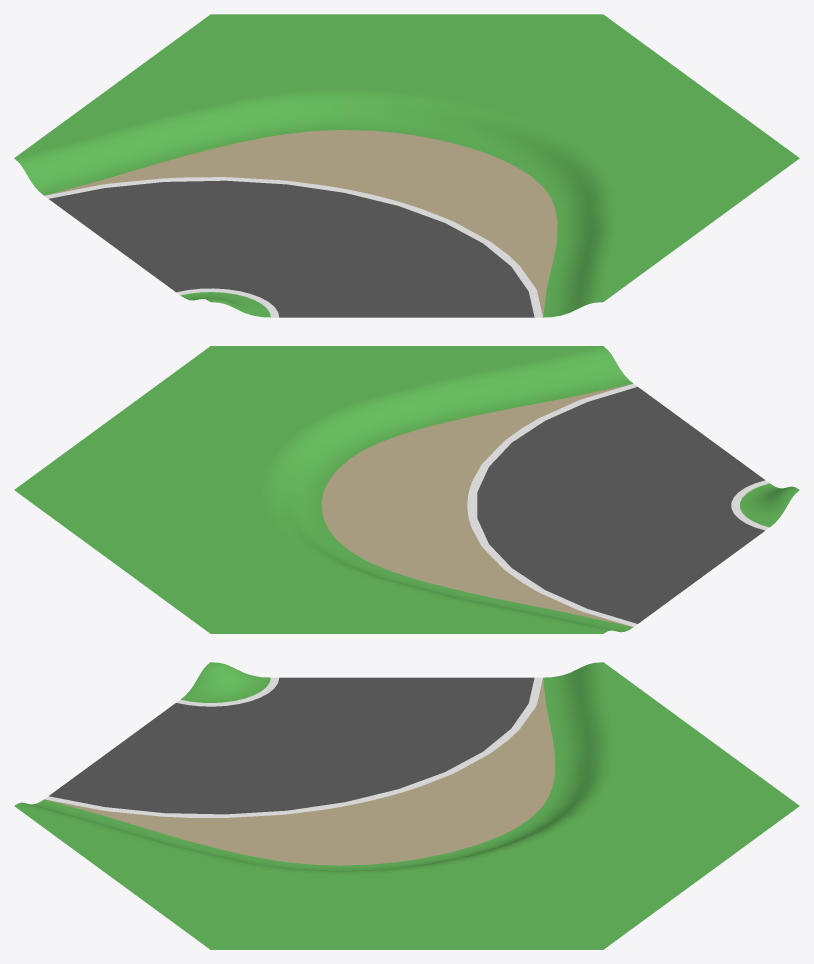
Rendered from Track_Flat_Curve_Sharp_Runoff.obj.
3 views of the same model, one above another, from view 1: azimuth 30°, elevation 25°; view 2: azimuth 150°, elevation 25°; view 3: azimuth 270°, elevation 25° (orthographic).
Visible parts, largest first — view 1: object1.021; view 2: object1.021; view 3: object1.021.
Boxes of the visible parts, x1,y1,x2,y2 form: object1.021: [14, 14, 799, 317]; object1.021: [14, 346, 799, 633]; object1.021: [14, 662, 799, 949].
Size of the model in its own units: 1 by 0.025 by 1.15.
